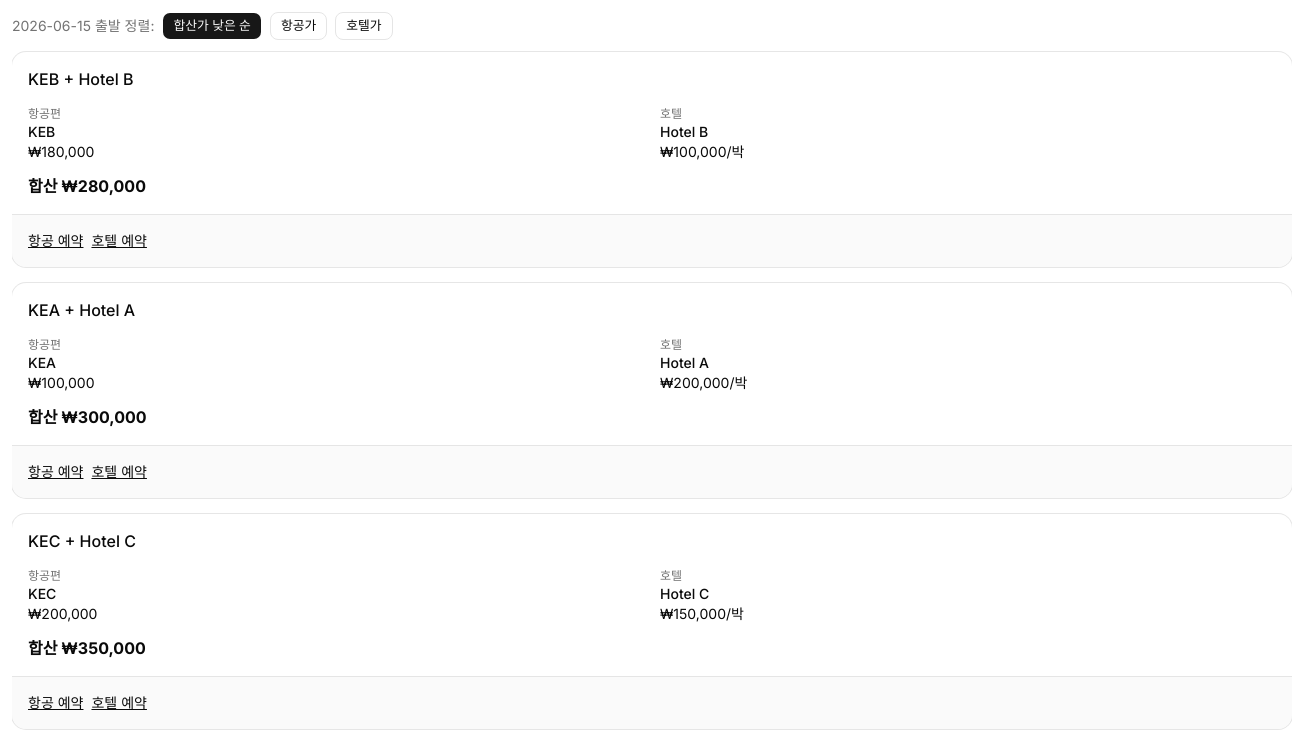
Test case: ComboList › sorts by hotel rate when '호텔가' is clicked
Click the button "호텔가": coordinates (364, 26) [335, 12, 392, 40]
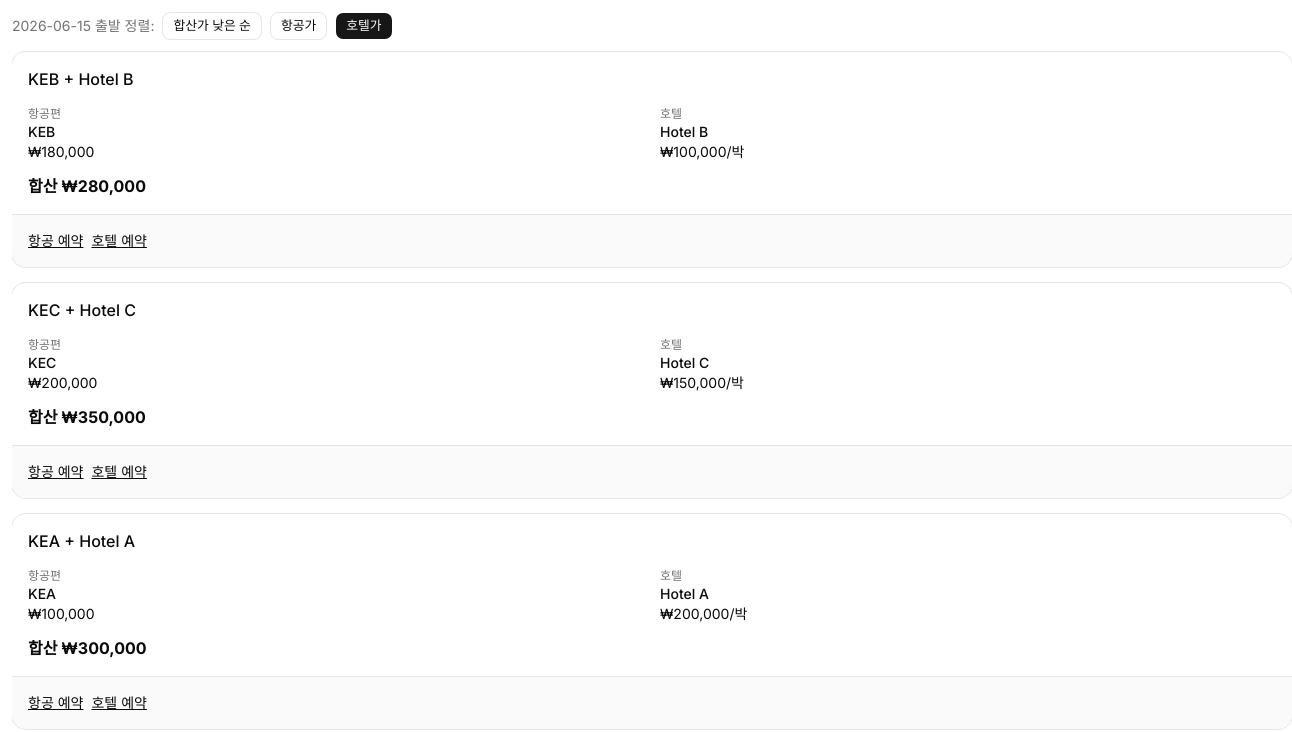
Expected: the element that starts with "KEB" is shown, [28, 69, 59, 89]
Expected: the element that starts with "KEC" is shown, [28, 300, 60, 320]
Expected: the element that starts with "KEA" is shown, [28, 531, 60, 551]
